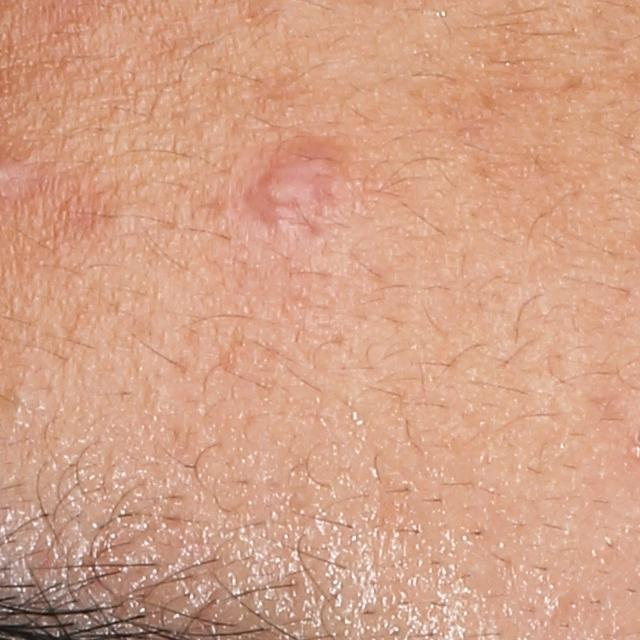comedo: (6, 386, 36, 411)
papule: (247, 134, 363, 234)
